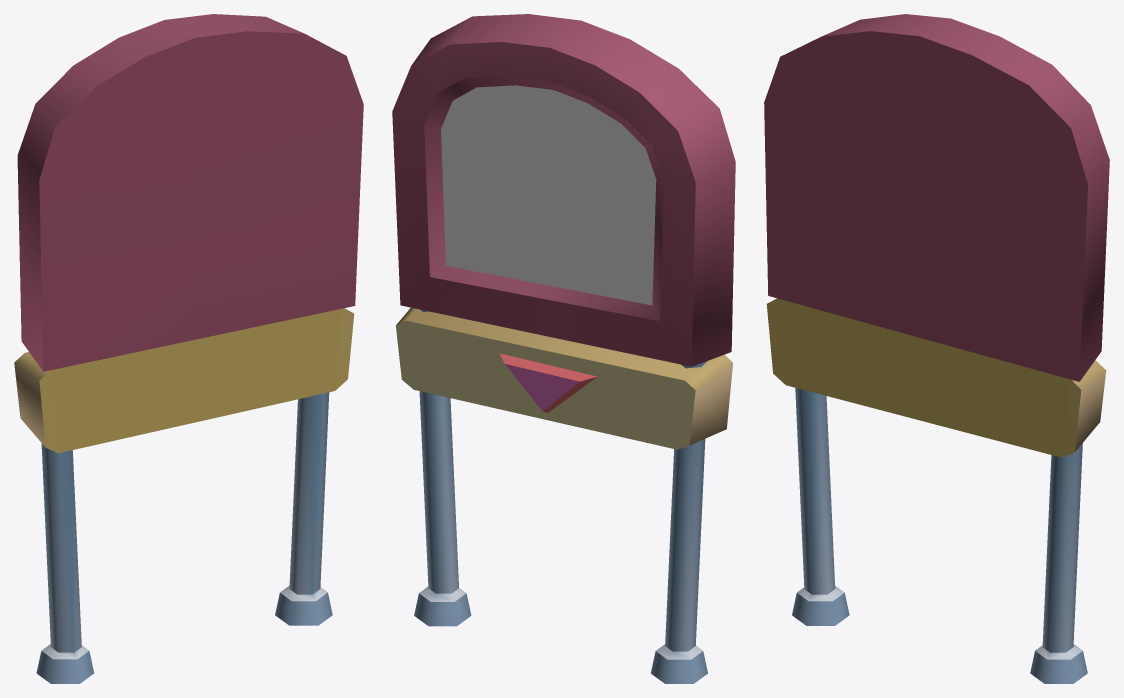
The model's file is obstacle-sign_H2g.glb.
The picture shows the model from 3 angles, left to right: view 1: azimuth 30°, elevation 25°; view 2: azimuth 150°, elevation 25°; view 3: azimuth 330°, elevation 25°; orthographic projection.
Visible parts, largest first — view 1: obstacle-sign_H2g; view 2: obstacle-sign_H2g; view 3: obstacle-sign_H2g.
Boxes of the visible parts, x1,y1,x2,y2 form: obstacle-sign_H2g: [14, 14, 363, 683]; obstacle-sign_H2g: [392, 14, 735, 683]; obstacle-sign_H2g: [764, 14, 1109, 683].
Size of the model in its own units: 2.52 by 4.59 by 0.5231.
